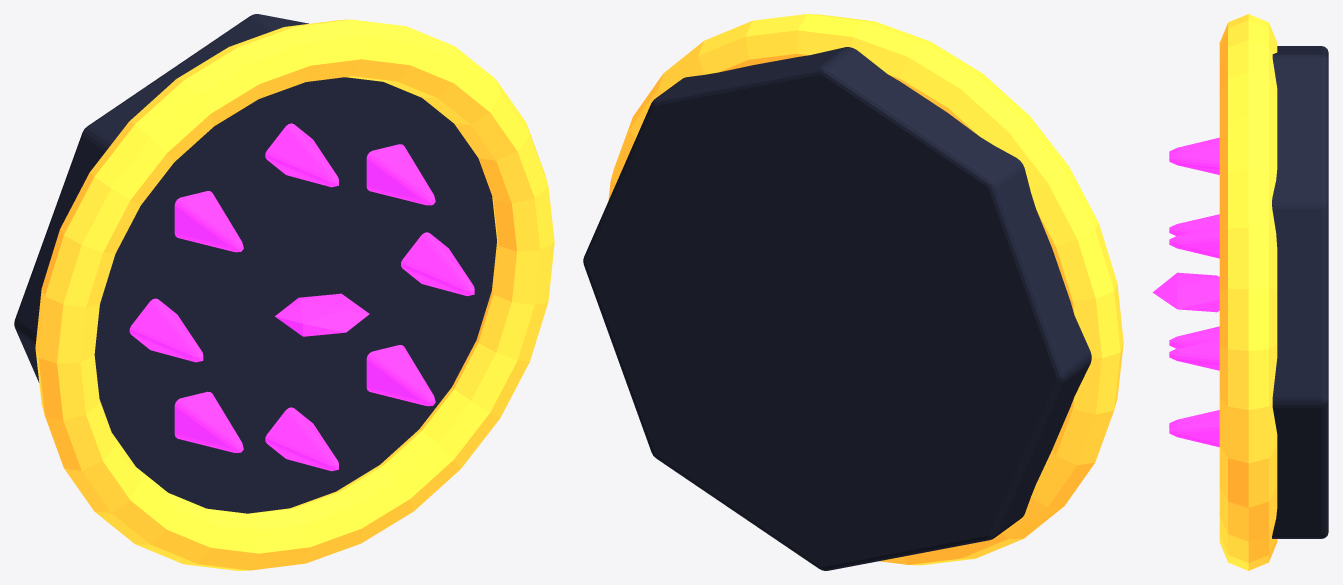
File: legendary_rune.glb
The picture shows the model from 3 angles, left to right: view 1: azimuth 30°, elevation 25°; view 2: azimuth 150°, elevation 25°; view 3: azimuth 270°, elevation 25°; orthographic projection. The views are drawn at different scales.
Visible parts, largest first — view 1: RuneBody.004, Torus.031, Star_05.004, Star_01.004, Star_03.004, Star_07.004, Core.004, Star_00.004, Star_04.004, Star_06.004, Star_02.004; view 2: RuneBody.004, Torus.031; view 3: Torus.031, RuneBody.004, Core.004, Star_01.004, Star_07.004, Star_00.004, Star_02.004, Star_05.004, Star_04.004, Star_03.004, Star_06.004.
Boxes of the visible parts, x1,y1,x2,y2 form: RuneBody.004: [14, 14, 496, 513]; Torus.031: [35, 19, 554, 570]; Star_05.004: [174, 391, 243, 452]; Star_01.004: [366, 144, 435, 205]; Star_03.004: [174, 191, 243, 252]; Star_07.004: [366, 345, 435, 406]; Core.004: [275, 293, 369, 336]; Star_00.004: [401, 232, 474, 296]; Star_04.004: [129, 298, 203, 362]; Star_06.004: [265, 407, 338, 471]; Star_02.004: [265, 123, 338, 187]; RuneBody.004: [583, 47, 1091, 570]; Torus.031: [608, 14, 1123, 565]; Torus.031: [1219, 14, 1277, 570]; RuneBody.004: [1272, 46, 1328, 538]; Core.004: [1152, 272, 1219, 312]; Star_01.004: [1169, 225, 1219, 258]; Star_07.004: [1169, 414, 1219, 447]; Star_00.004: [1169, 338, 1219, 370]; Star_02.004: [1169, 143, 1219, 174]; Star_05.004: [1169, 326, 1219, 348]; Star_04.004: [1169, 214, 1219, 235]; Star_03.004: [1169, 137, 1219, 155]; Star_06.004: [1169, 410, 1219, 427].
Size of the model in its own units: 1.74 by 1.74 by 0.55.
